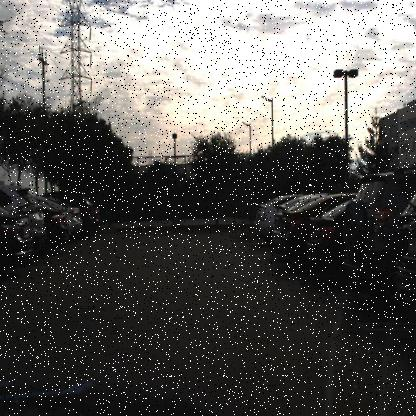car: (341, 166, 415, 309), (275, 193, 346, 260), (303, 194, 362, 272), (0, 184, 47, 270), (253, 191, 308, 246), (48, 196, 84, 238), (42, 204, 69, 252)
